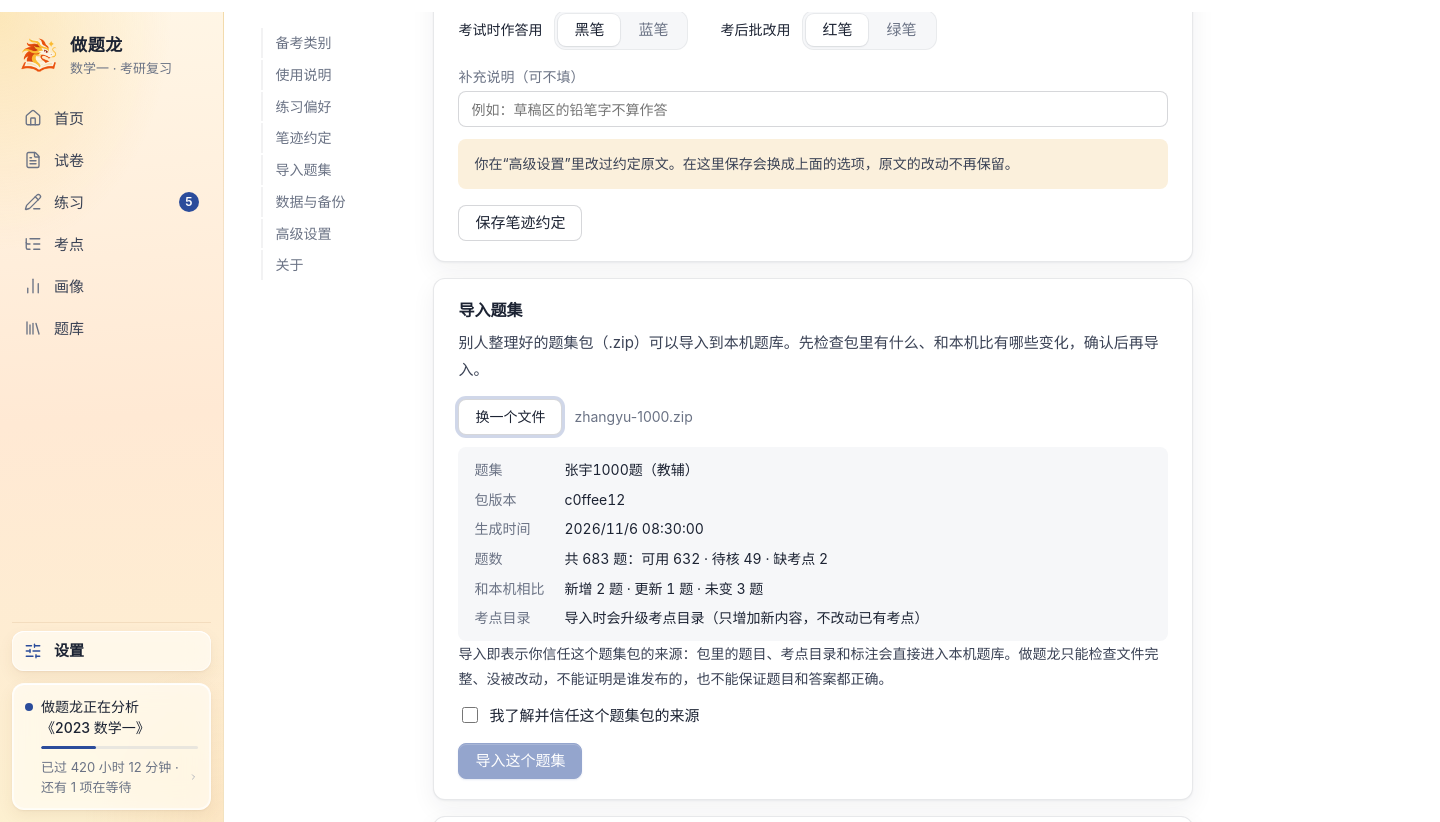
Scenario: explains a 404 error on import
Earlier steps of the test are not shown.
(page scrolled)
What coordinates should you click on to do the following:
click the checkbox labelled "我了解并信任这个题集包的来源"
I would click on:
 (470, 715)
Its box is [462,707,478,723].
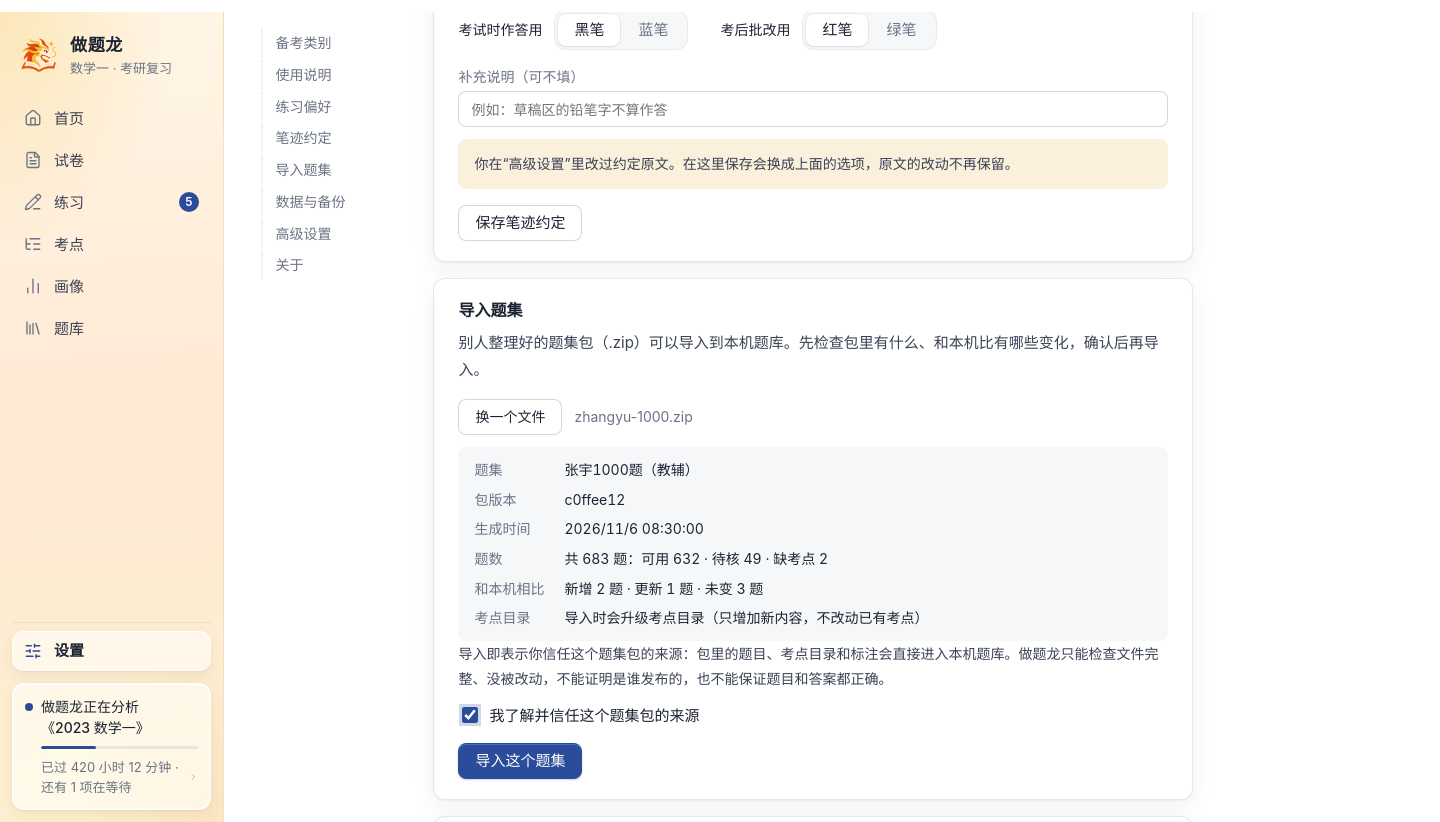
What coordinates should you click on to do the following:
click the button "导入这个题集"
I would click on:
 (520, 761)
Its box is [458,743,582,779].
(page scrolled)
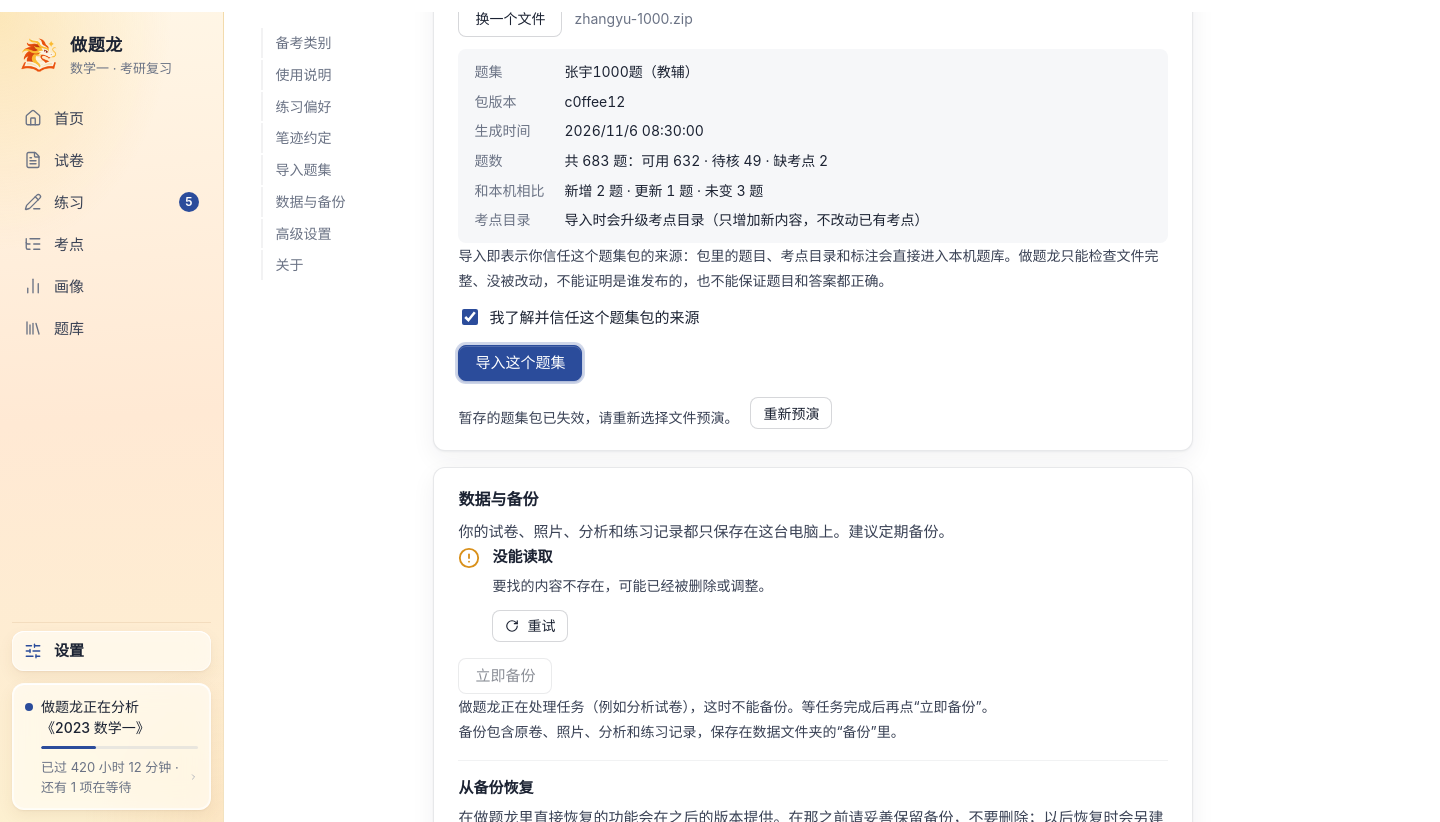
Expected: the text "暂存的题集包已失效，请重新选择文件预演。" is shown, [458,405,738,430]
